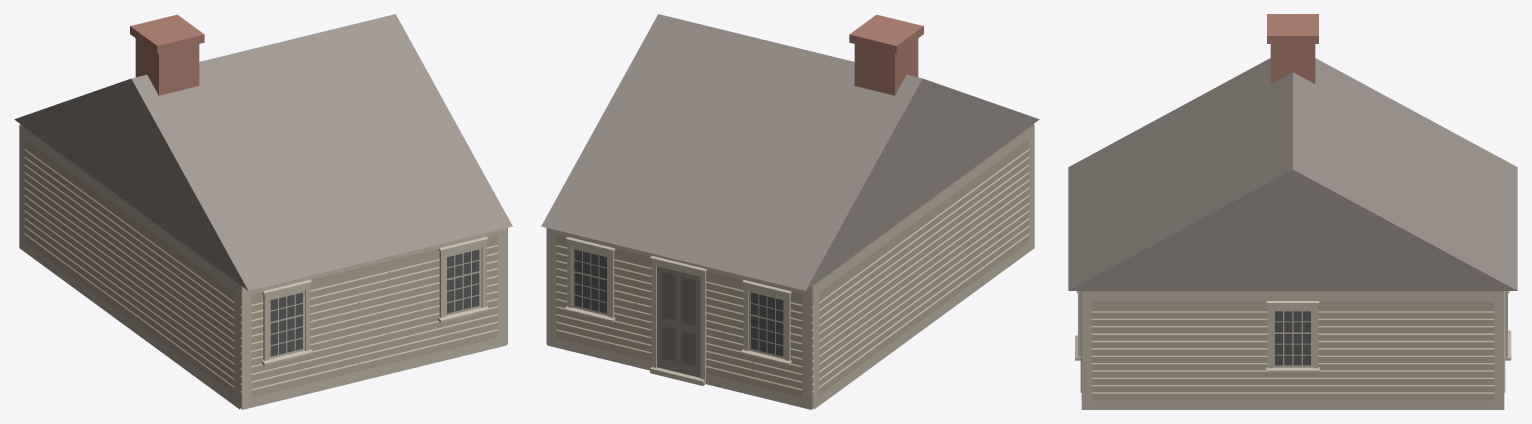
File: inf_teamster_dwelling_south__inferred_1835.glb
The picture shows the model from 3 angles, left to right: view 1: azimuth 30°, elevation 25°; view 2: azimuth 150°, elevation 25°; view 3: azimuth 270°, elevation 25°; orthographic projection. The views are drawn at different scales.
Visible parts, largest first — view 1: inf_teamster_dwelling_south__inferred_1835; view 2: inf_teamster_dwelling_south__inferred_1835; view 3: inf_teamster_dwelling_south__inferred_1835.
Boxes of the visible parts, x1,y1,x2,y2 form: inf_teamster_dwelling_south__inferred_1835: (14, 14, 512, 409); inf_teamster_dwelling_south__inferred_1835: (541, 14, 1039, 409); inf_teamster_dwelling_south__inferred_1835: (1068, 14, 1517, 409).
Bounding box in the file's own units: 5.64 × 5.74 × 8.43.
